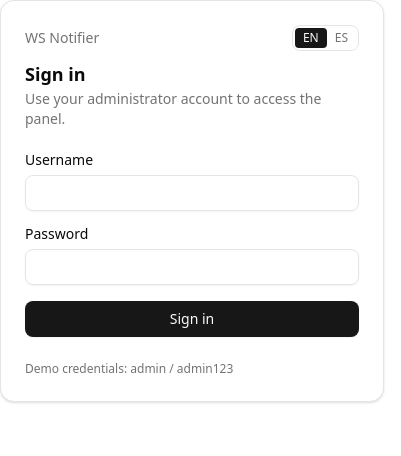
Test: <LoginForm /> › muestra el error de la API con credenciales incorrectas
This screenshot has width=401, height=456.
Type "admin" into the field labelled "Username" at coordinates (192, 193), box top-left (25, 175), bottom-right (359, 211)
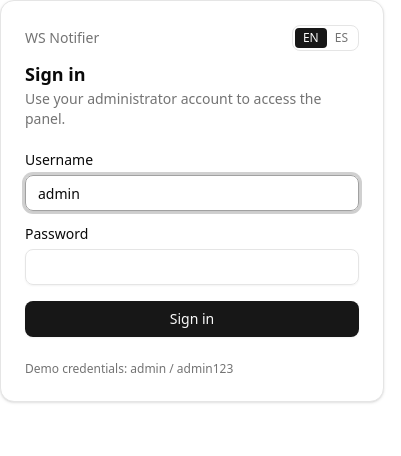
Type "wrong" into the password field labelled "Password" at coordinates (192, 267), box top-left (25, 249), bottom-right (359, 285)
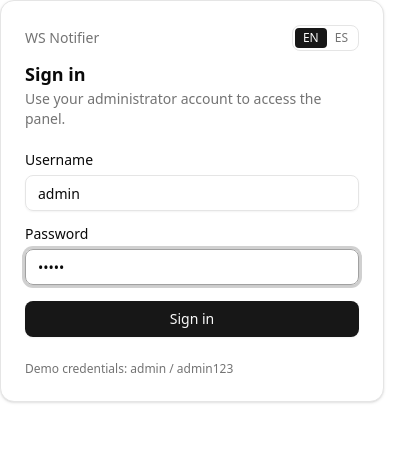
Click the button "Sign in" at coordinates (192, 319), box top-left (25, 301), bottom-right (359, 337)
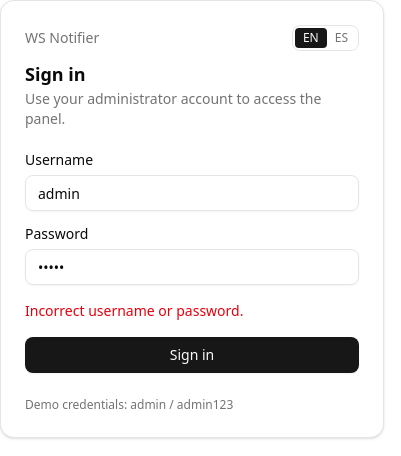
Result: the message reads "Incorrect username or password." at top-left (25, 301), bottom-right (244, 320)
